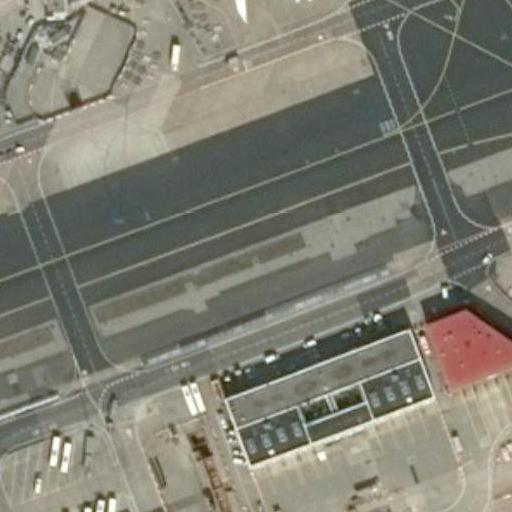Aircraft: (157, 0, 353, 21), (156, 0, 349, 20)
